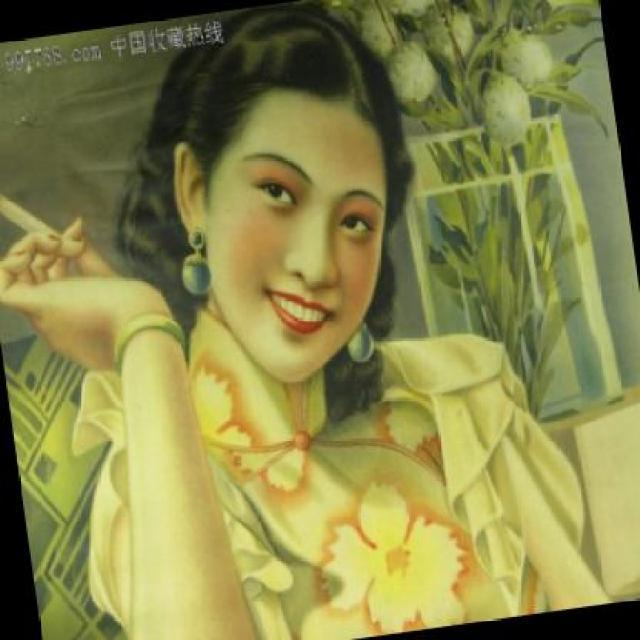cigarette: (0, 172, 65, 255)
